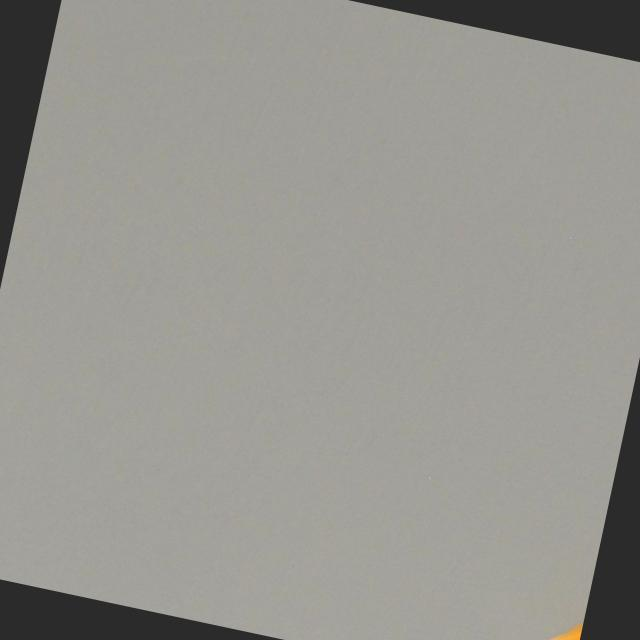entero: (513, 593, 586, 640)
